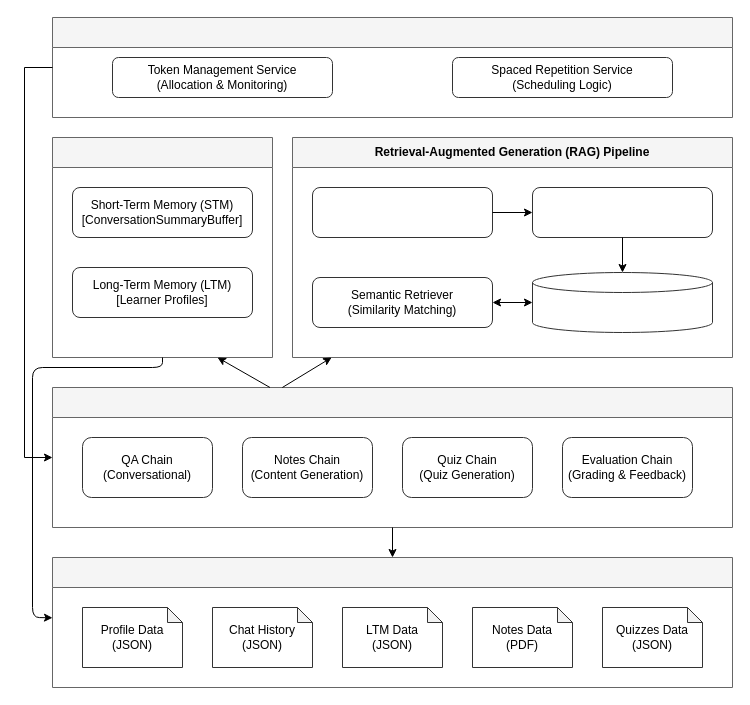
This 750x705 diagram has some shape labels left out. The box of each missing label's shape, as (x1, y1, x2, y2) in pixels:
Data Ingestion (PyPDF & Unstructured): (312, 186, 492, 238)
Data Management (JSON Serialized and PDF Data Directory): (52, 556, 732, 688)
Embedding Component (BAAI/bge-small): (532, 186, 712, 238)
Functional Chain Modules (LangChain Orchestration): (52, 386, 732, 528)
Memory Architecture: (52, 136, 272, 358)
Service Modules (Cross-Cutting Support): (52, 16, 732, 118)
Vector Store (ChromaDB): (532, 272, 712, 332)
